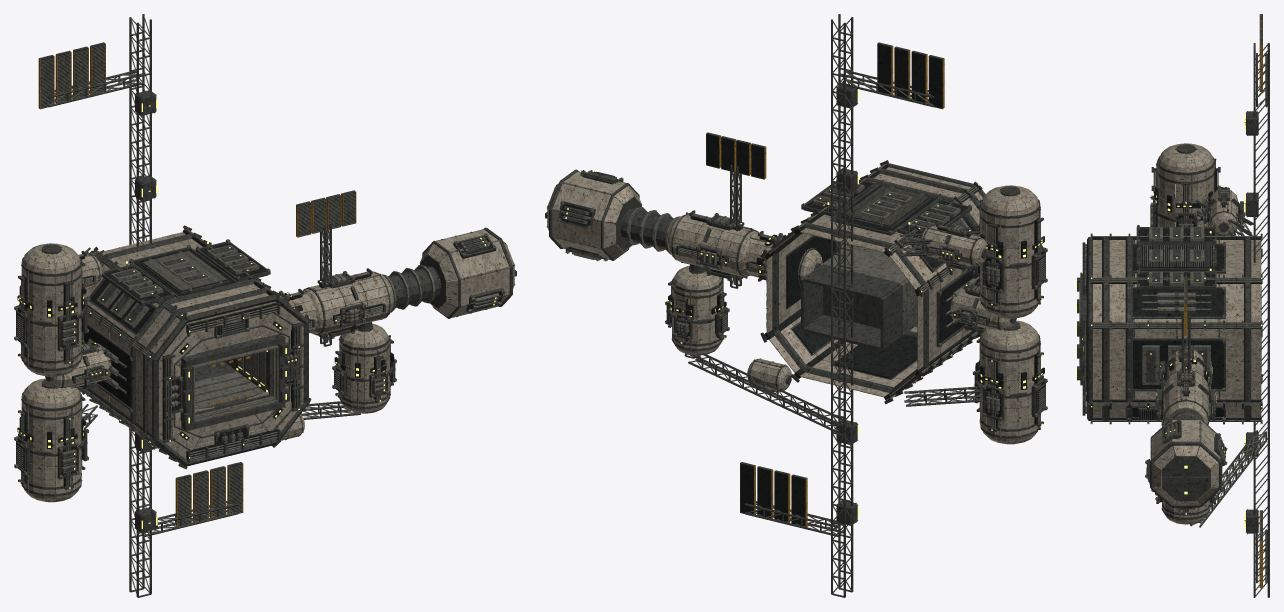
The model's file is assembly.glb.
The picture shows the model from 3 angles, left to right: view 1: azimuth 30°, elevation 25°; view 2: azimuth 150°, elevation 25°; view 3: azimuth 270°, elevation 25°; orthographic projection. The views are drawn at different scales.
Visible parts, largest first — view 1: static/dark-structure, static/machined-alloy, static/recess-black, static/cladding-armour-1, static/cladding-armour-2, static/cladding-armour-0, static/cladding-armour-3, static/service-ochre, static/cladding-dark-structure, static/amber-lamp; view 2: static/dark-structure, static/recess-black, static/machined-alloy, static/cladding-armour-1, static/cladding-armour-2, static/cladding-armour-3, static/cladding-armour-0, static/service-ochre, static/cladding-dark-structure; view 3: static/dark-structure, static/machined-alloy, static/recess-black, static/cladding-armour-1, static/cladding-armour-2, static/cladding-armour-3, static/cladding-armour-0, static/cladding-dark-structure, static/service-ochre, static/amber-lamp.
Boxes of the visible parts, box(x1,y1,x2,y2) form: static/dark-structure: box(14, 14, 516, 597); static/machined-alloy: box(14, 14, 515, 593); static/recess-black: box(16, 44, 501, 525); static/cladding-armour-1: box(23, 243, 514, 502); static/cladding-armour-2: box(21, 243, 508, 494); static/cladding-armour-0: box(25, 232, 514, 444); static/cladding-armour-3: box(21, 230, 505, 493); static/service-ochre: box(38, 43, 356, 525); static/cladding-dark-structure: box(135, 90, 156, 532); static/amber-lamp: box(17, 100, 496, 529); static/dark-structure: box(545, 14, 1047, 597); static/recess-black: box(560, 44, 1045, 526); static/machined-alloy: box(546, 17, 1047, 593); static/cladding-armour-1: box(547, 185, 1038, 444); static/cladding-armour-2: box(547, 167, 1036, 436); static/cladding-armour-3: box(556, 172, 1038, 436); static/cladding-armour-0: box(553, 185, 1038, 435); static/service-ochre: box(706, 46, 944, 527); static/cladding-dark-structure: box(836, 85, 857, 525); static/dark-structure: box(1077, 14, 1269, 597); static/machined-alloy: box(1079, 16, 1269, 596); static/recess-black: box(1086, 168, 1261, 511); static/cladding-armour-1: box(1134, 143, 1261, 524); static/cladding-armour-2: box(1093, 172, 1238, 517); static/cladding-armour-3: box(1093, 191, 1261, 512); static/cladding-armour-0: box(1152, 164, 1261, 517); static/cladding-dark-structure: box(1246, 111, 1258, 533); static/service-ochre: box(1184, 14, 1262, 587); static/amber-lamp: box(1076, 116, 1262, 528).
Size of the model in its own units: 1133 by 1282 by 410.
Materials: 9 (8 with a texture image).
